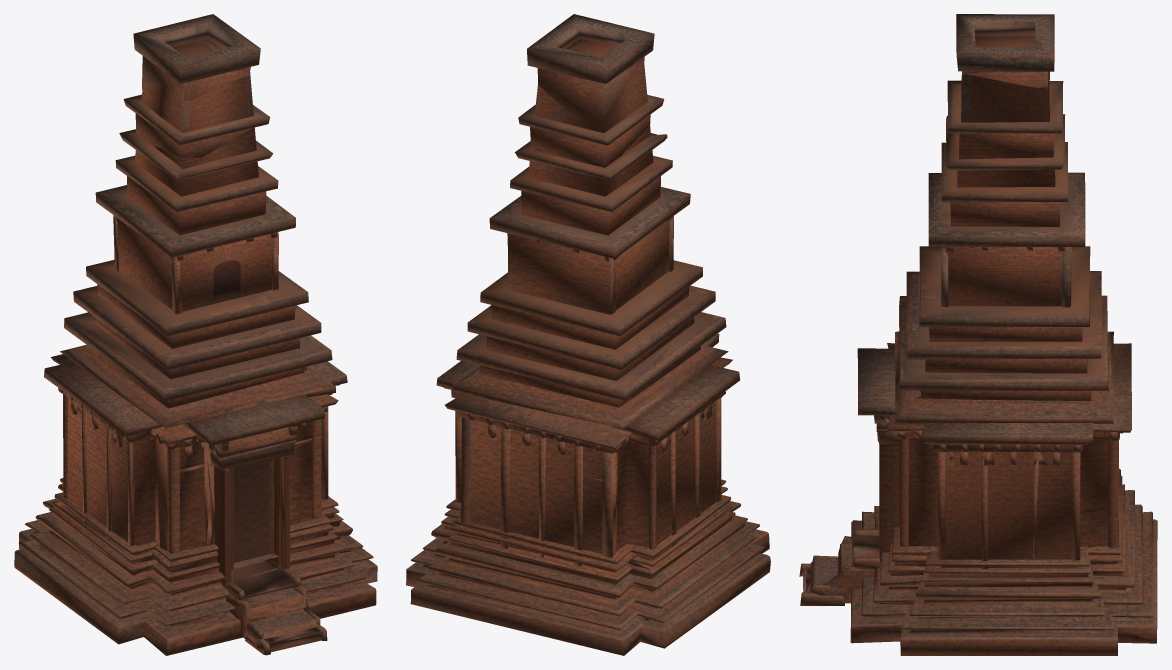
The model's file is meshy-cham-tower.glb.
3 renders of one model, left to right at view 1: azimuth 30°, elevation 25°; view 2: azimuth 150°, elevation 25°; view 3: azimuth 270°, elevation 25°, orthographic. The views are drawn at different scales.
Size of the model in its own units: 0.5077 by 1 by 0.584.
1 material, 1 textured.
